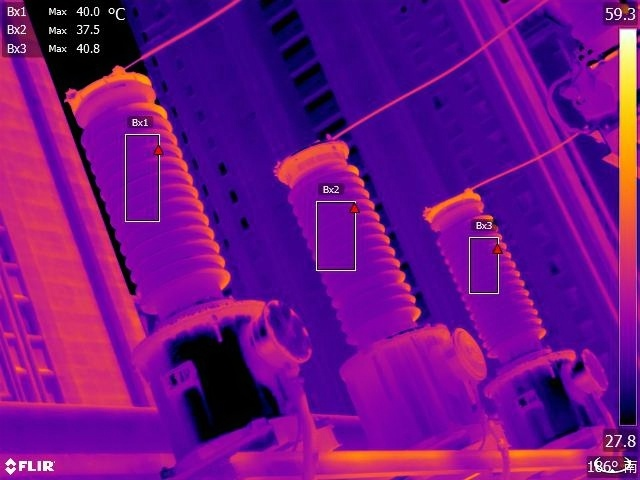potential transformer: (62, 54, 316, 430), (275, 126, 486, 433), (412, 176, 597, 434)
